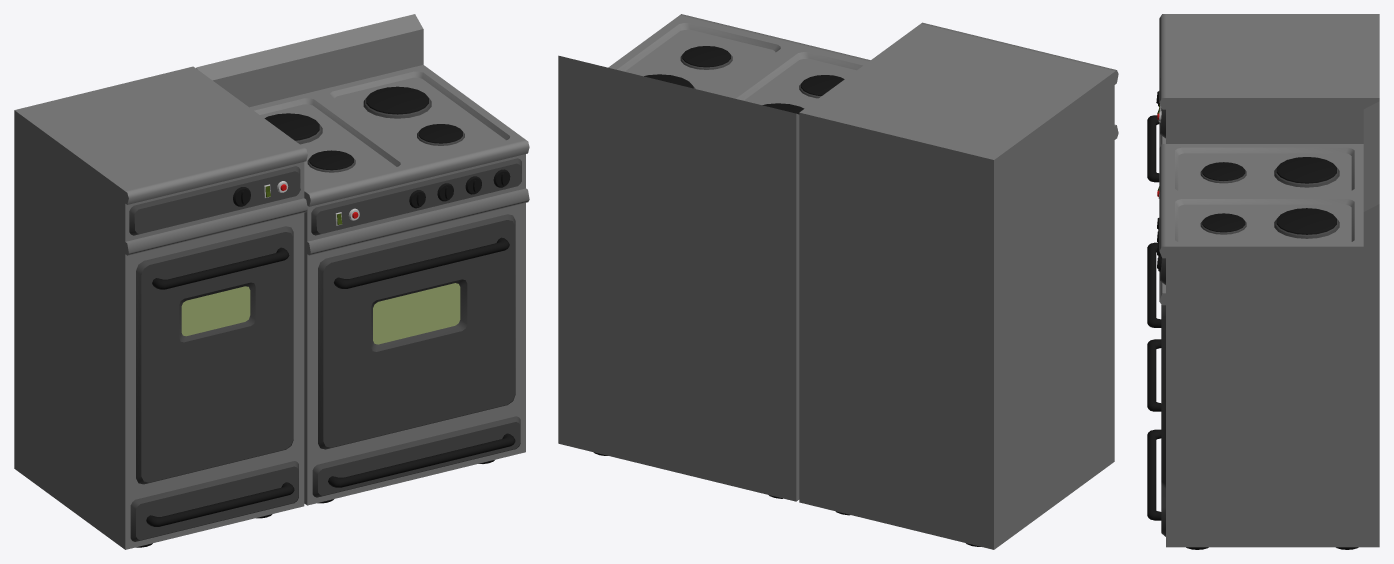
Rendered from cocina_set_00_UVW.fbx.
3 views of the same model, side by side, from view 1: azimuth 30°, elevation 25°; view 2: azimuth 150°, elevation 25°; view 3: azimuth 270°, elevation 25° (orthographic). The views are drawn at different scales.
Parts seen in each view (by area): view 1: cocina_02, cocina_01; view 2: cocina_02, cocina_01; view 3: cocina_01, cocina_02.
Part boxes in pixels (x1,y1,x2,y2): cocina_02: (14, 66, 307, 549); cocina_01: (196, 14, 529, 505); cocina_02: (799, 22, 1118, 549); cocina_01: (558, 14, 870, 501); cocina_01: (1147, 101, 1379, 549); cocina_02: (1147, 14, 1379, 411).
Size of the model in its own units: 60.43 by 53.17 by 31.57.
